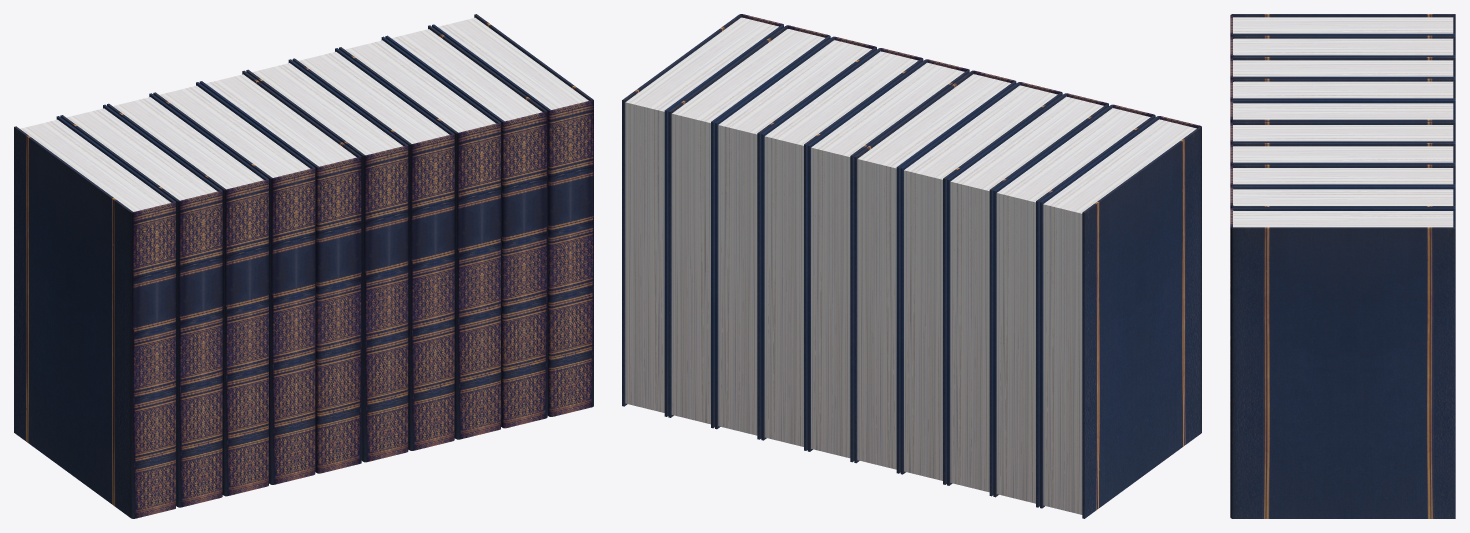
The model's file is RetroBooks01_1_10x.FBX.
The picture shows the model from 3 angles, left to right: view 1: azimuth 30°, elevation 25°; view 2: azimuth 150°, elevation 25°; view 3: azimuth 270°, elevation 25°; orthographic projection. The views are drawn at different scales.
Parts seen in each view (by area): view 1: RetroBooks01_1_10x; view 2: RetroBooks01_1_10x; view 3: RetroBooks01_1_10x.
Boxes of the visible parts, bbox=[...] form: RetroBooks01_1_10x: bbox=[14, 14, 593, 518]; RetroBooks01_1_10x: bbox=[622, 14, 1201, 518]; RetroBooks01_1_10x: bbox=[1230, 14, 1455, 518].
Size of the model in its own units: 3.57 by 2.26 by 1.59.
